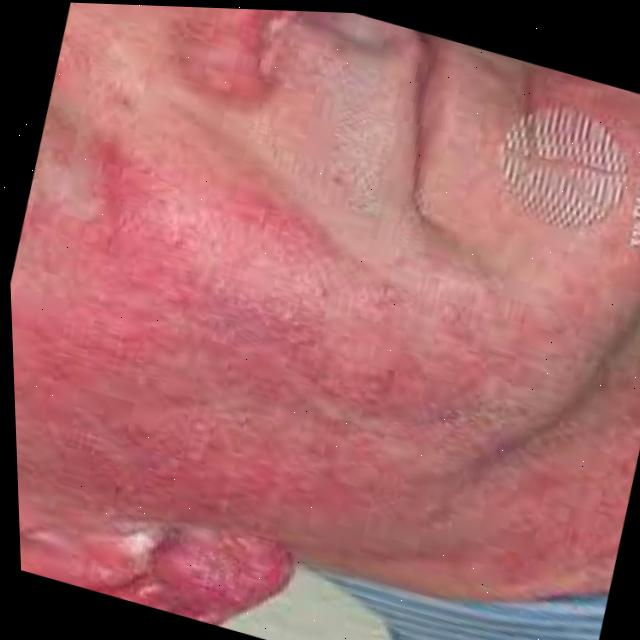Rosacea: (4, 110, 534, 640)
